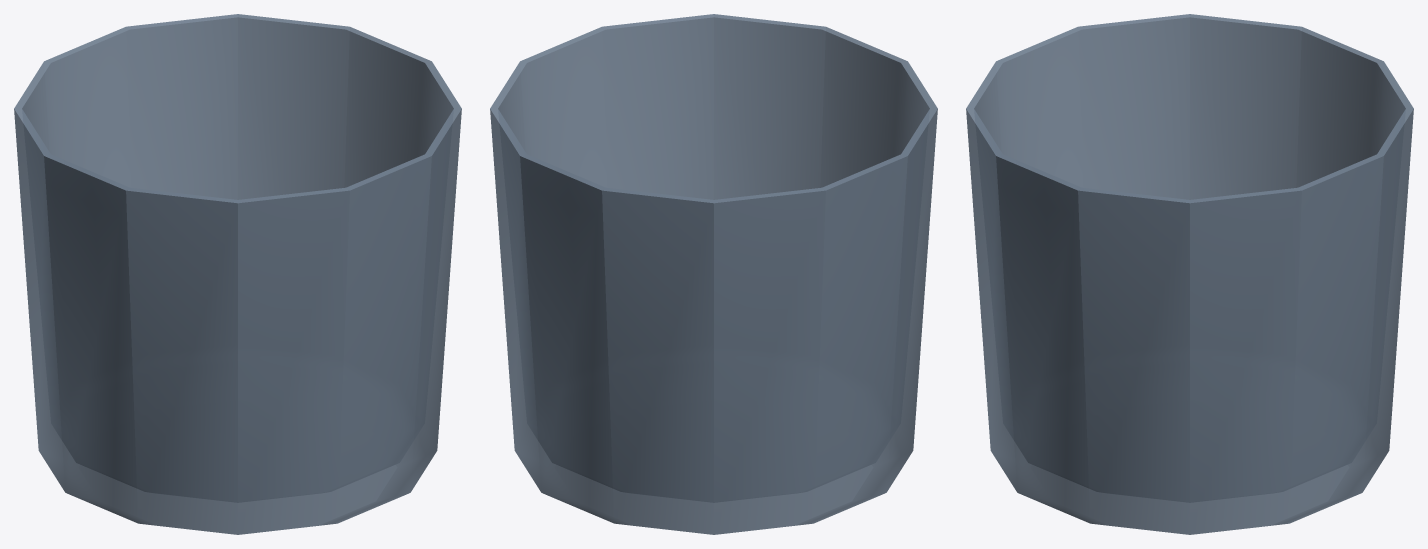
Rendered from mesh_glass_05.fbx.
3 renders of one model, left to right at view 1: azimuth 30°, elevation 25°; view 2: azimuth 150°, elevation 25°; view 3: azimuth 270°, elevation 25°, orthographic.
Parts seen in each view (by area): view 1: mesh_glass_05; view 2: mesh_glass_05; view 3: mesh_glass_05.
Boxes of the visible parts, bbox=[...] form: mesh_glass_05: bbox=[14, 14, 461, 534]; mesh_glass_05: bbox=[490, 14, 937, 534]; mesh_glass_05: bbox=[966, 14, 1413, 534].
Bounding box in the file's own units: 0.1248 × 0.1103 × 0.1248.
